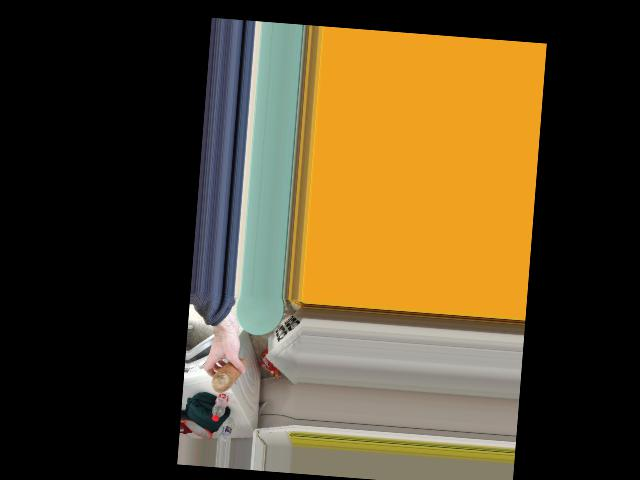sweet_potato: (213, 357, 248, 394)
